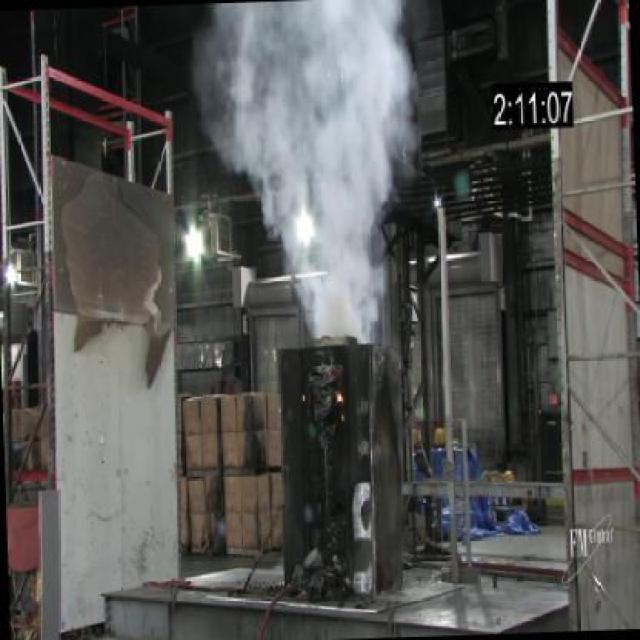fire: (190, 2, 424, 336)
